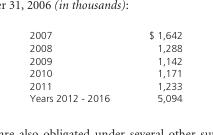table: (28, 29, 181, 103)
table column: (28, 29, 128, 103), (128, 29, 181, 103)
table row: (28, 53, 181, 66), (28, 66, 181, 79), (28, 29, 181, 41), (28, 41, 181, 53), (28, 79, 181, 91), (28, 91, 181, 103)
